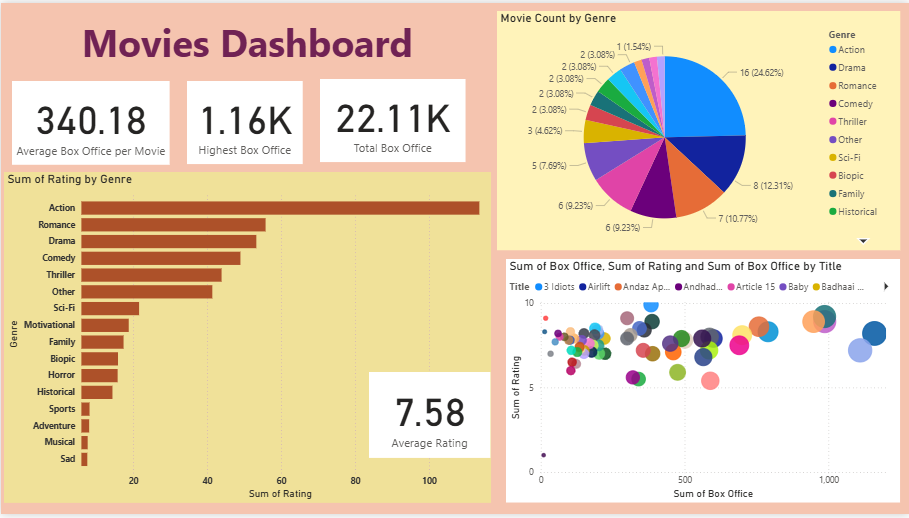

The page's visual inventory and layout, read from the dashboard file:
{"tool":"powerbi","page":{"name":"Page 1","canvas":[1280,720],"ordinal":0},"visuals":[{"type":"barChart","fields":{"Category":["Movies.Genre"],"Y":["Sum(Movies.Rating)"]},"box":[3.9,238.2,685.5,465.8],"z":500},{"type":"card","fields":{"Values":["Movies.Average Box Office per Movie"]},"box":[15.8,110.5,222.4,118.4],"z":1000},{"type":"card","fields":{"Values":["Movies.Average Rating"]},"box":[518.4,519.7,171.1,121.1],"z":1500},{"type":"card","fields":{"Values":["Movies.Total Box Office"]},"box":[448.7,106.6,205.3,117.1],"z":2000},{"type":"card","fields":{"Values":["Movies.Highest Box Office"]},"box":[261.8,110.5,163.2,117.1],"z":3000},{"type":"pieChart","fields":{"Category":["Movies.Genre"],"Y":["Movies.Movie Count"]},"box":[698.7,11.8,568.4,336.8],"z":5000},{"type":"textbox","box":[100,13.2,493.4,82.9],"z":6000},{"type":"scatterChart","fields":{"X":["Sum(Movies.Box Office)"],"Y":["Sum(Movies.Rating)"],"Size":["Sum(Movies.Box Office)"],"Series":["Movies.Title"]},"box":[711.8,360.5,555.3,343.4],"z":7000}]}

Visuals, with their boxes in screenshot pixels (x1, y1, x2, y2), scaled from the page's 1280x720 canvas onto the 909x518 screenshot:
barChart - Movies.Genre x Sum(Movies.Rating): 3:171:490:506
card - Movies.Average Box Office per Movie: 11:79:169:165
card - Movies.Average Rating: 368:374:490:461
card - Movies.Total Box Office: 319:77:464:161
card - Movies.Highest Box Office: 186:79:302:164
pieChart - Movies.Genre x Movies.Movie Count: 496:8:900:251
textbox: 71:9:421:69
scatterChart - Sum(Movies.Box Office) x Sum(Movies.Rating): 505:259:900:506
